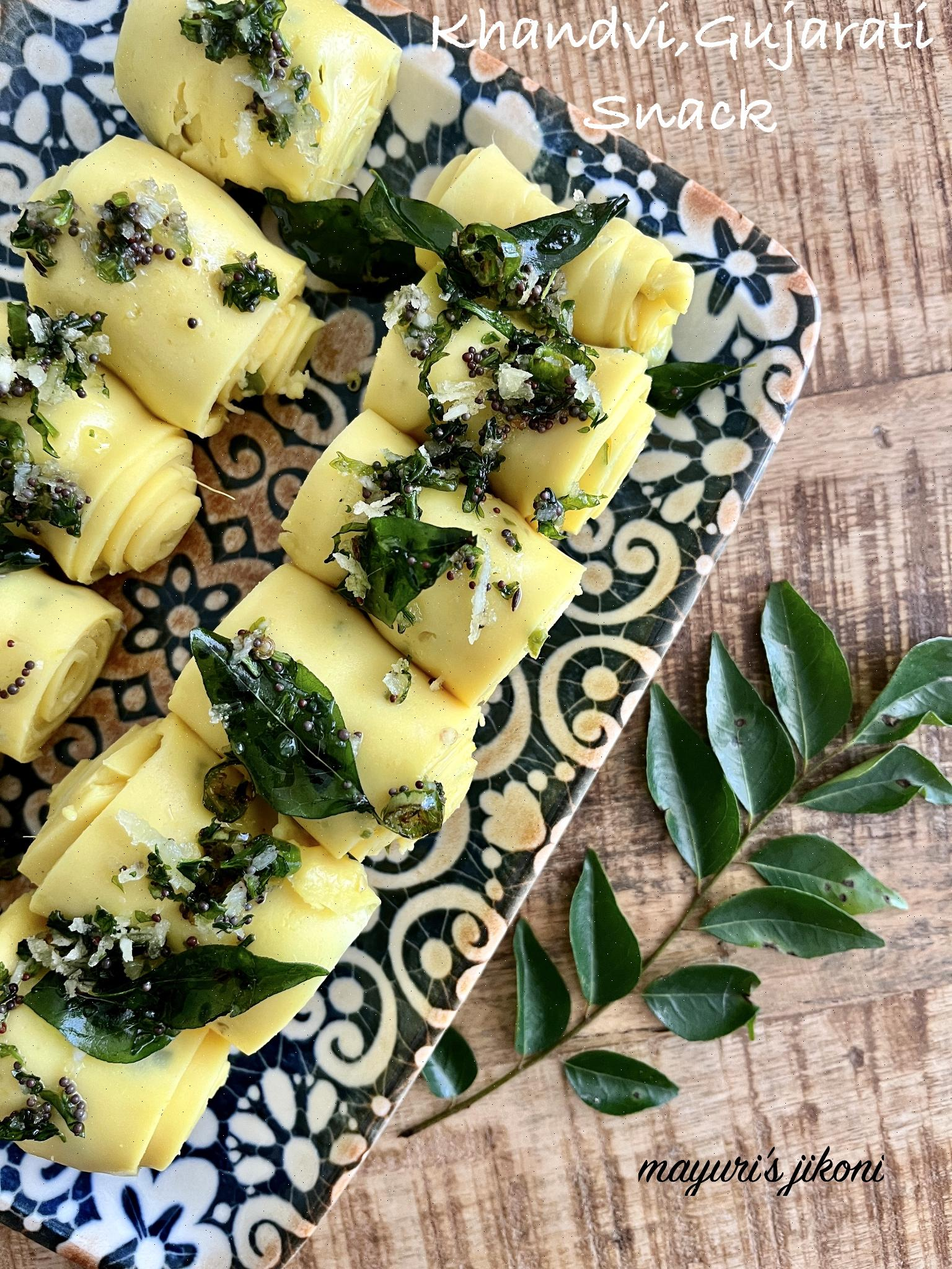khandvi: (0, 3, 708, 1196)
